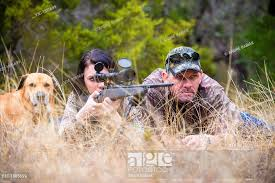white_male: (165, 59, 205, 107)
